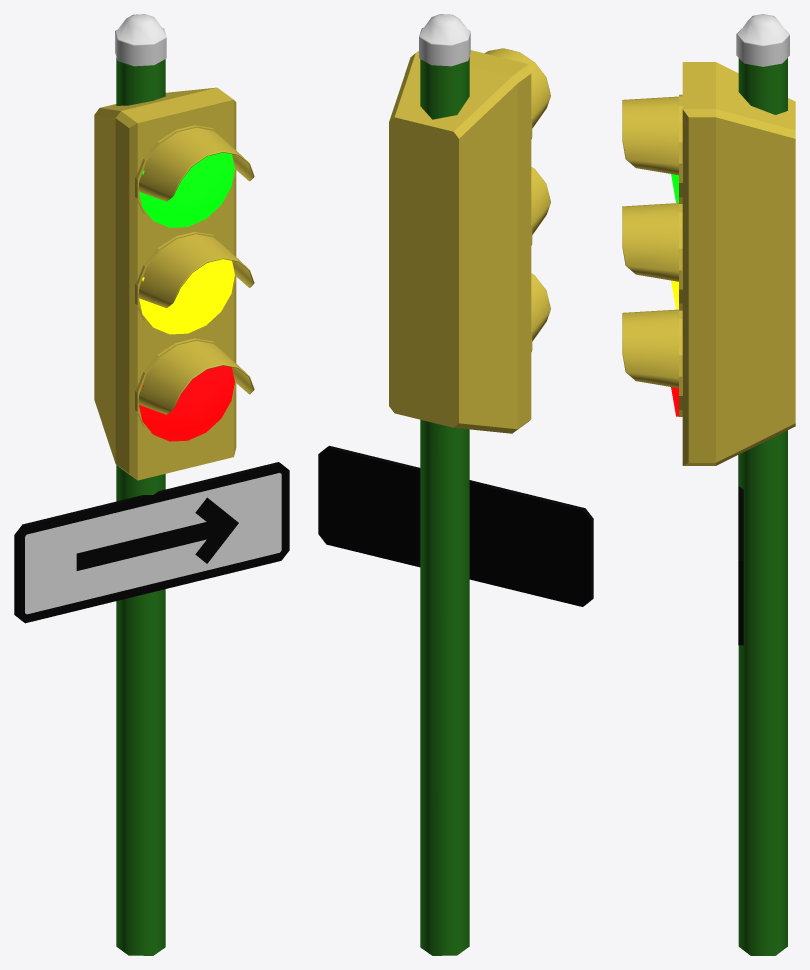
Rendered from semaforo_vertical_opt.fbx.
3 views of the same model, side by side, from view 1: azimuth 30°, elevation 25°; view 2: azimuth 150°, elevation 25°; view 3: azimuth 270°, elevation 25° (orthographic).
Visible parts, largest first — view 1: Semaforo.001, letrero.001, poste.001, Cubierta.001, verde.003, verde.002, verde.001, tapa poste.001; view 2: Semaforo.001, poste.001, letrero.001, Cubierta.001, tapa poste.001; view 3: Semaforo.001, poste.001, Cubierta.001, tapa poste.001, letrero.001.
Part boxes in pixels (x1,y1,x2,y2): Semaforo.001: [94, 87, 236, 480]; letrero.001: [14, 462, 289, 623]; poste.001: [116, 57, 165, 955]; Cubierta.001: [135, 125, 254, 438]; verde.003: [139, 365, 234, 441]; verde.002: [139, 259, 234, 334]; verde.001: [139, 152, 234, 227]; tapa poste.001: [115, 14, 166, 66]; Semaforo.001: [389, 50, 531, 433]; poste.001: [420, 57, 469, 955]; letrero.001: [318, 445, 593, 606]; Cubierta.001: [485, 48, 550, 351]; tapa poste.001: [419, 14, 470, 66]; Semaforo.001: [682, 62, 795, 465]; poste.001: [738, 58, 787, 955]; Cubierta.001: [622, 94, 682, 416]; tapa poste.001: [736, 14, 789, 66]; letrero.001: [738, 455, 743, 645].
Bounding box in the file's own units: 63.74 × 207 × 35.12.
